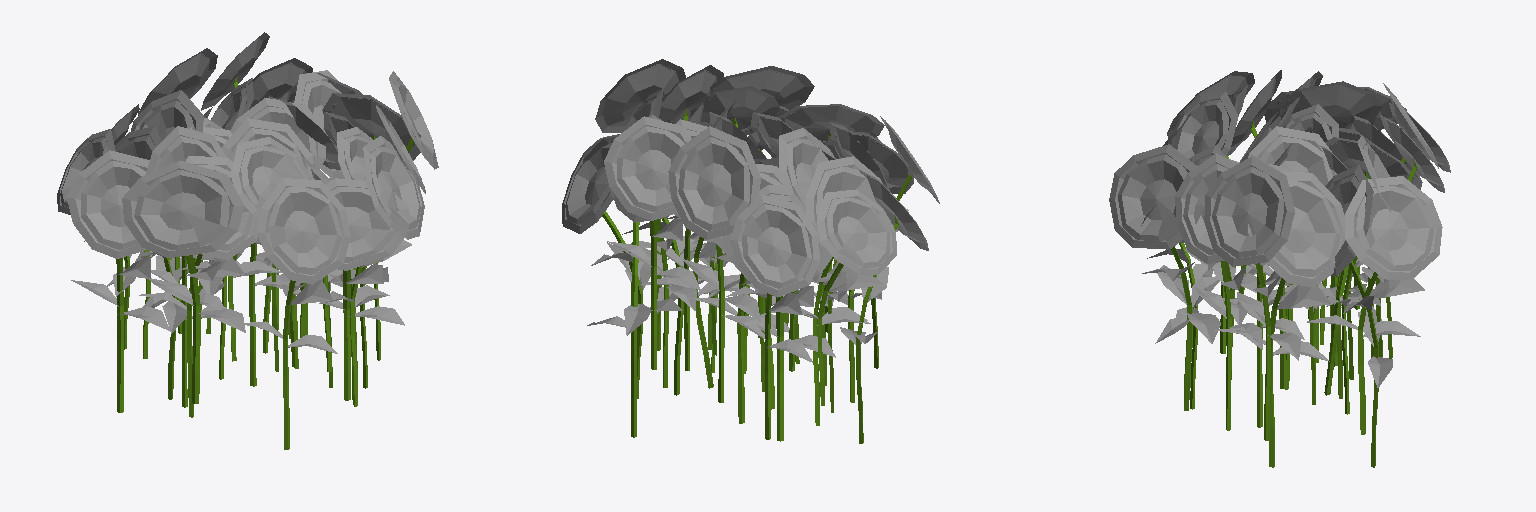
3 views of the same model, side by side, from view 1: azimuth 30°, elevation 25°; view 2: azimuth 150°, elevation 25°; view 3: azimuth 270°, elevation 25° (orthographic).
Parts seen in each view (by area): view 1: flower_pink; view 2: flower_pink; view 3: flower_pink.
Boxes of the visible parts, x1,y1,x2,y2 form: flower_pink: [57, 32, 438, 449]; flower_pink: [562, 59, 939, 443]; flower_pink: [1109, 70, 1450, 467].
Bounding box in the file's own units: 0.4951 × 0.4643 × 0.4282.
Materials: 3 (1 with a texture image).